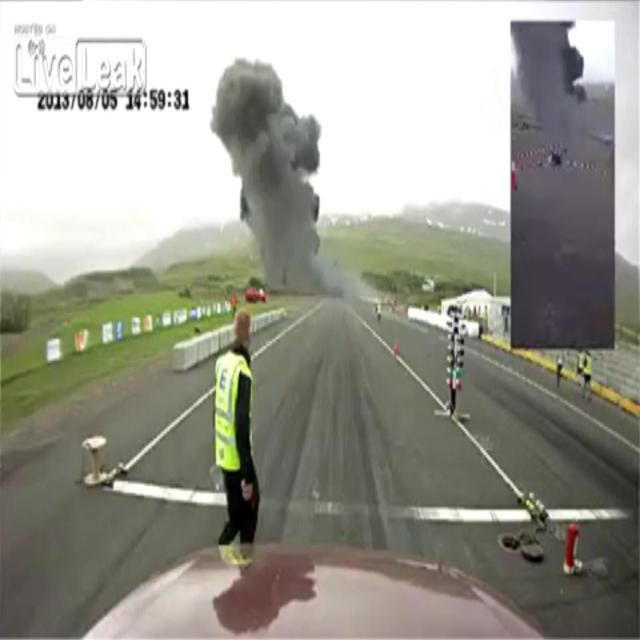Smoke: (210, 57, 380, 300), (510, 20, 587, 132)
